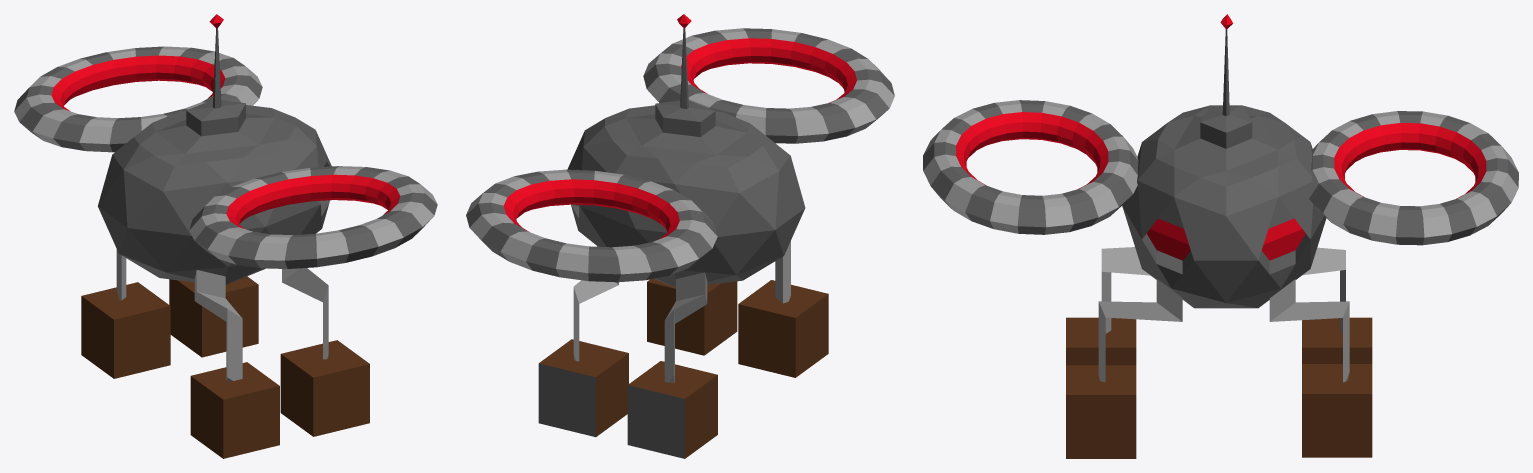
Rendered from Drone.fbx.
3 views of the same model, side by side, from view 1: azimuth 30°, elevation 25°; view 2: azimuth 150°, elevation 25°; view 3: azimuth 270°, elevation 25° (orthographic). The views are drawn at different scales.
Parts seen in each view (by area): view 1: Icosphere; view 2: Icosphere; view 3: Icosphere.
Part boxes in pixels (<box>): Icosphere: <box>14,14,437,458</box>; Icosphere: <box>466,14,894,458</box>; Icosphere: <box>923,14,1518,458</box>.
Size of the model in its own units: 406 by 644 by 862.
